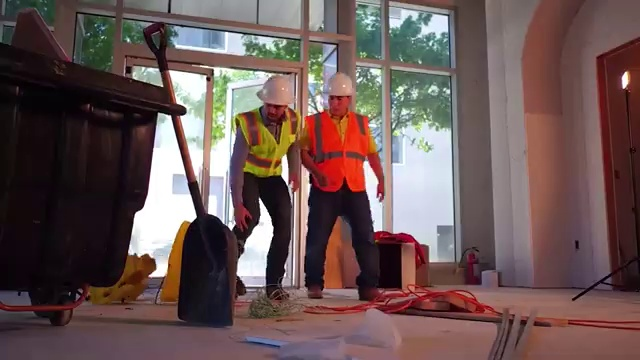helmet: (243, 66, 298, 113), (316, 68, 365, 97)
jacket: (310, 115, 374, 202), (232, 109, 292, 180)
